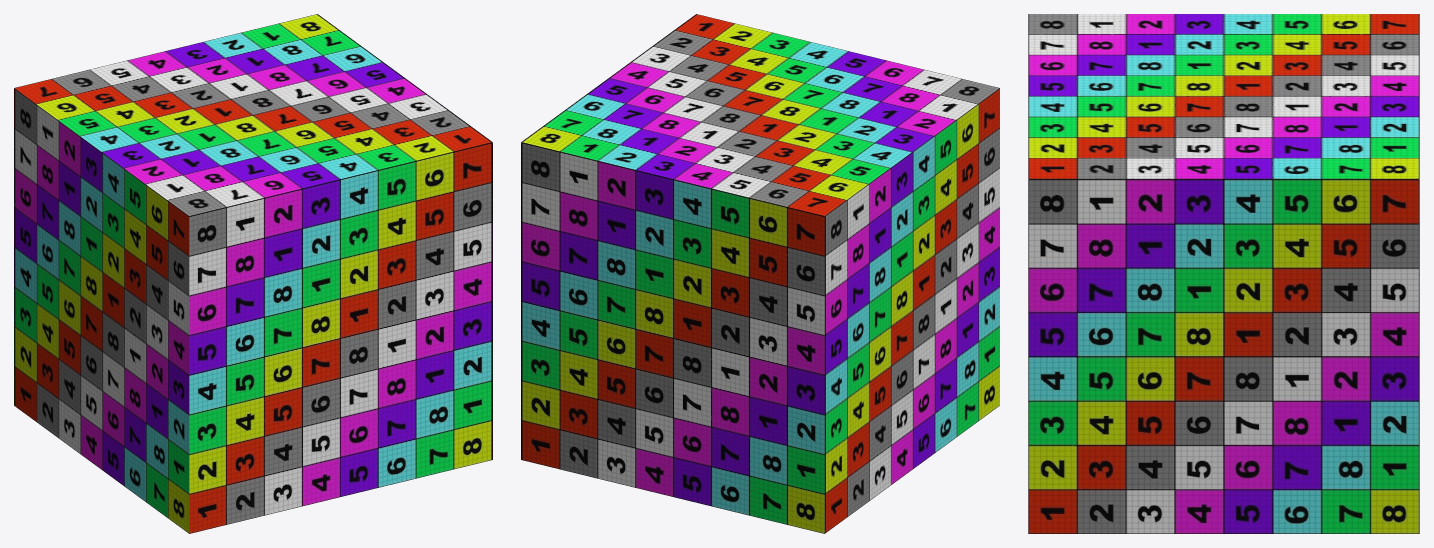
The model's file is sam2.obj.
3 renders of one model, left to right at view 1: azimuth 30°, elevation 25°; view 2: azimuth 150°, elevation 25°; view 3: azimuth 270°, elevation 25°, orthographic. The views are drawn at different scales.
Visible parts, largest first — view 1: Cube.001; view 2: Cube.001; view 3: Cube.001.
Boxes of the visible parts, left/top/right/bottom form: Cube.001: left=14, top=14, right=492, bottom=533; Cube.001: left=521, top=14, right=999, bottom=533; Cube.001: left=1028, top=14, right=1419, bottom=533.
Size of the model in its own units: 2 by 2 by 2.
Materials: 1 (1 with a texture image).
